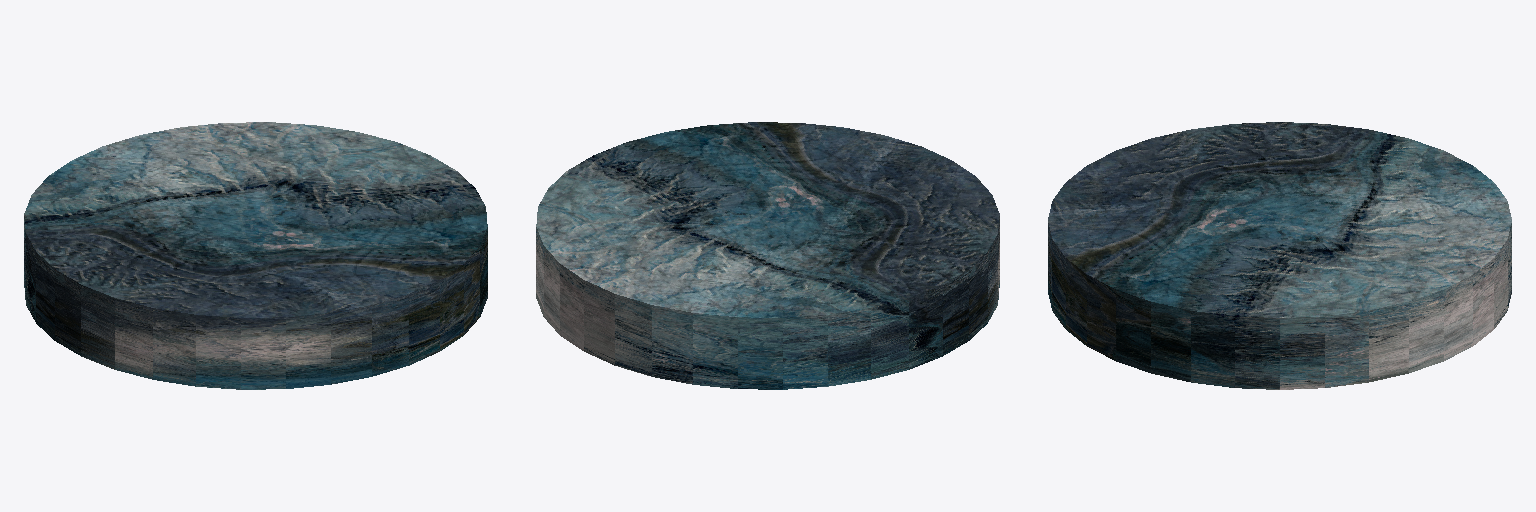
3 views of the same model, side by side, from view 1: azimuth 30°, elevation 25°; view 2: azimuth 150°, elevation 25°; view 3: azimuth 270°, elevation 25° (orthographic).
Parts seen in each view (by area): view 1: Cylinder; view 2: Cylinder; view 3: Cylinder.
Part boxes in pixels (x1,y1,x2,y2): Cylinder: (24, 122, 487, 389); Cylinder: (536, 122, 999, 389); Cylinder: (1048, 122, 1511, 389).
Size of the model in its own units: 2 by 0.3417 by 2.
1 materials, 1 textured.